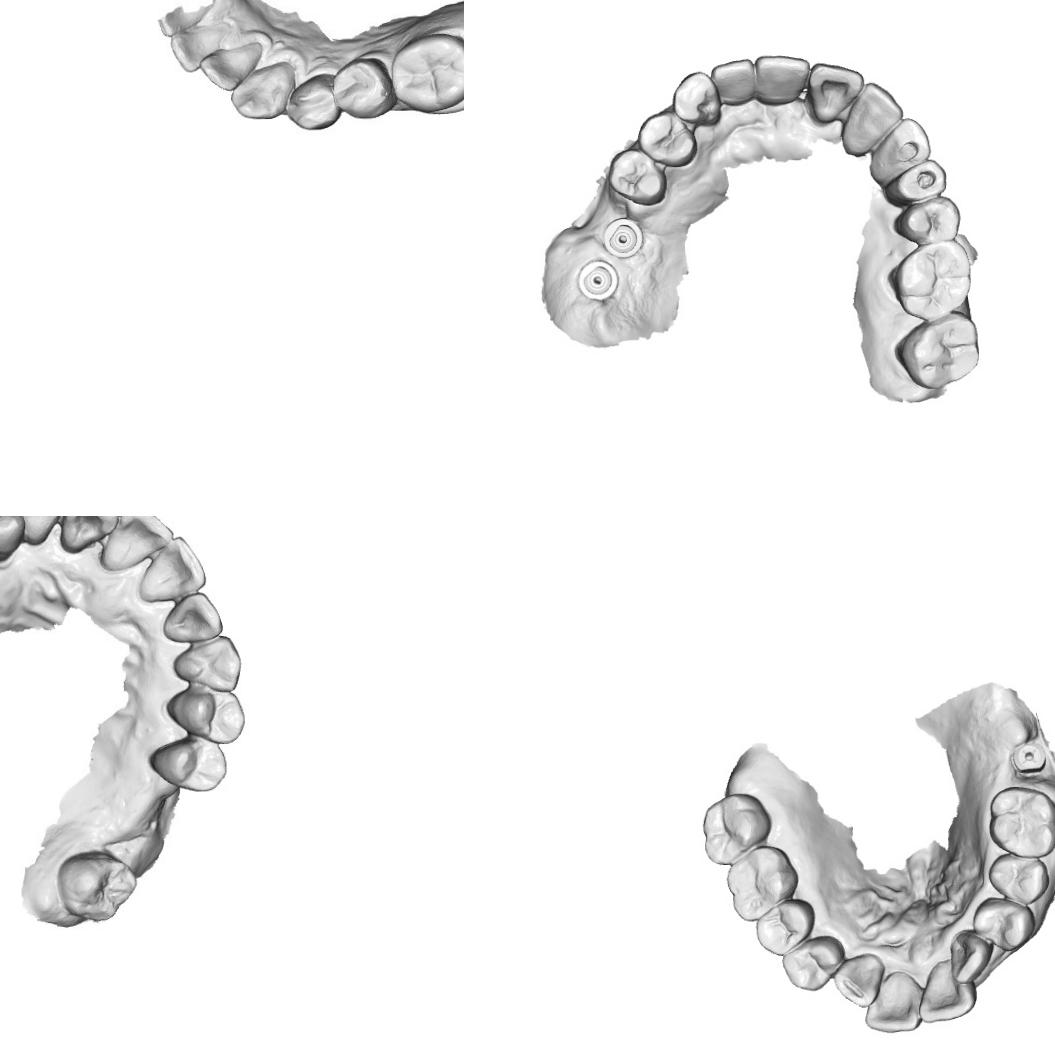canine: (172, 635, 244, 693), (870, 116, 933, 179), (229, 62, 291, 120), (670, 69, 722, 127), (831, 952, 884, 1008), (948, 929, 994, 984), (14, 516, 67, 545)
implant: (577, 258, 620, 302), (602, 216, 644, 258)
implant_plus: (1008, 741, 1047, 775)
incisor: (918, 956, 978, 1024), (863, 970, 925, 1034), (806, 61, 866, 124), (848, 80, 904, 144), (143, 538, 203, 596), (198, 40, 264, 92), (105, 516, 170, 566), (754, 52, 812, 106), (168, 26, 226, 74), (164, 598, 226, 640), (710, 57, 760, 107), (63, 516, 118, 543)
molar: (888, 239, 974, 323), (897, 310, 982, 391), (54, 845, 137, 926), (388, 31, 464, 112), (725, 844, 799, 923), (701, 791, 772, 866), (987, 784, 1055, 859)
premolar: (162, 690, 248, 745), (150, 740, 227, 793), (606, 146, 668, 207), (332, 54, 391, 118), (781, 934, 846, 992), (890, 194, 962, 246), (636, 109, 698, 169), (972, 895, 1036, 952), (754, 898, 816, 956), (281, 72, 339, 132), (987, 852, 1050, 907), (882, 158, 948, 206), (0, 516, 25, 559)
